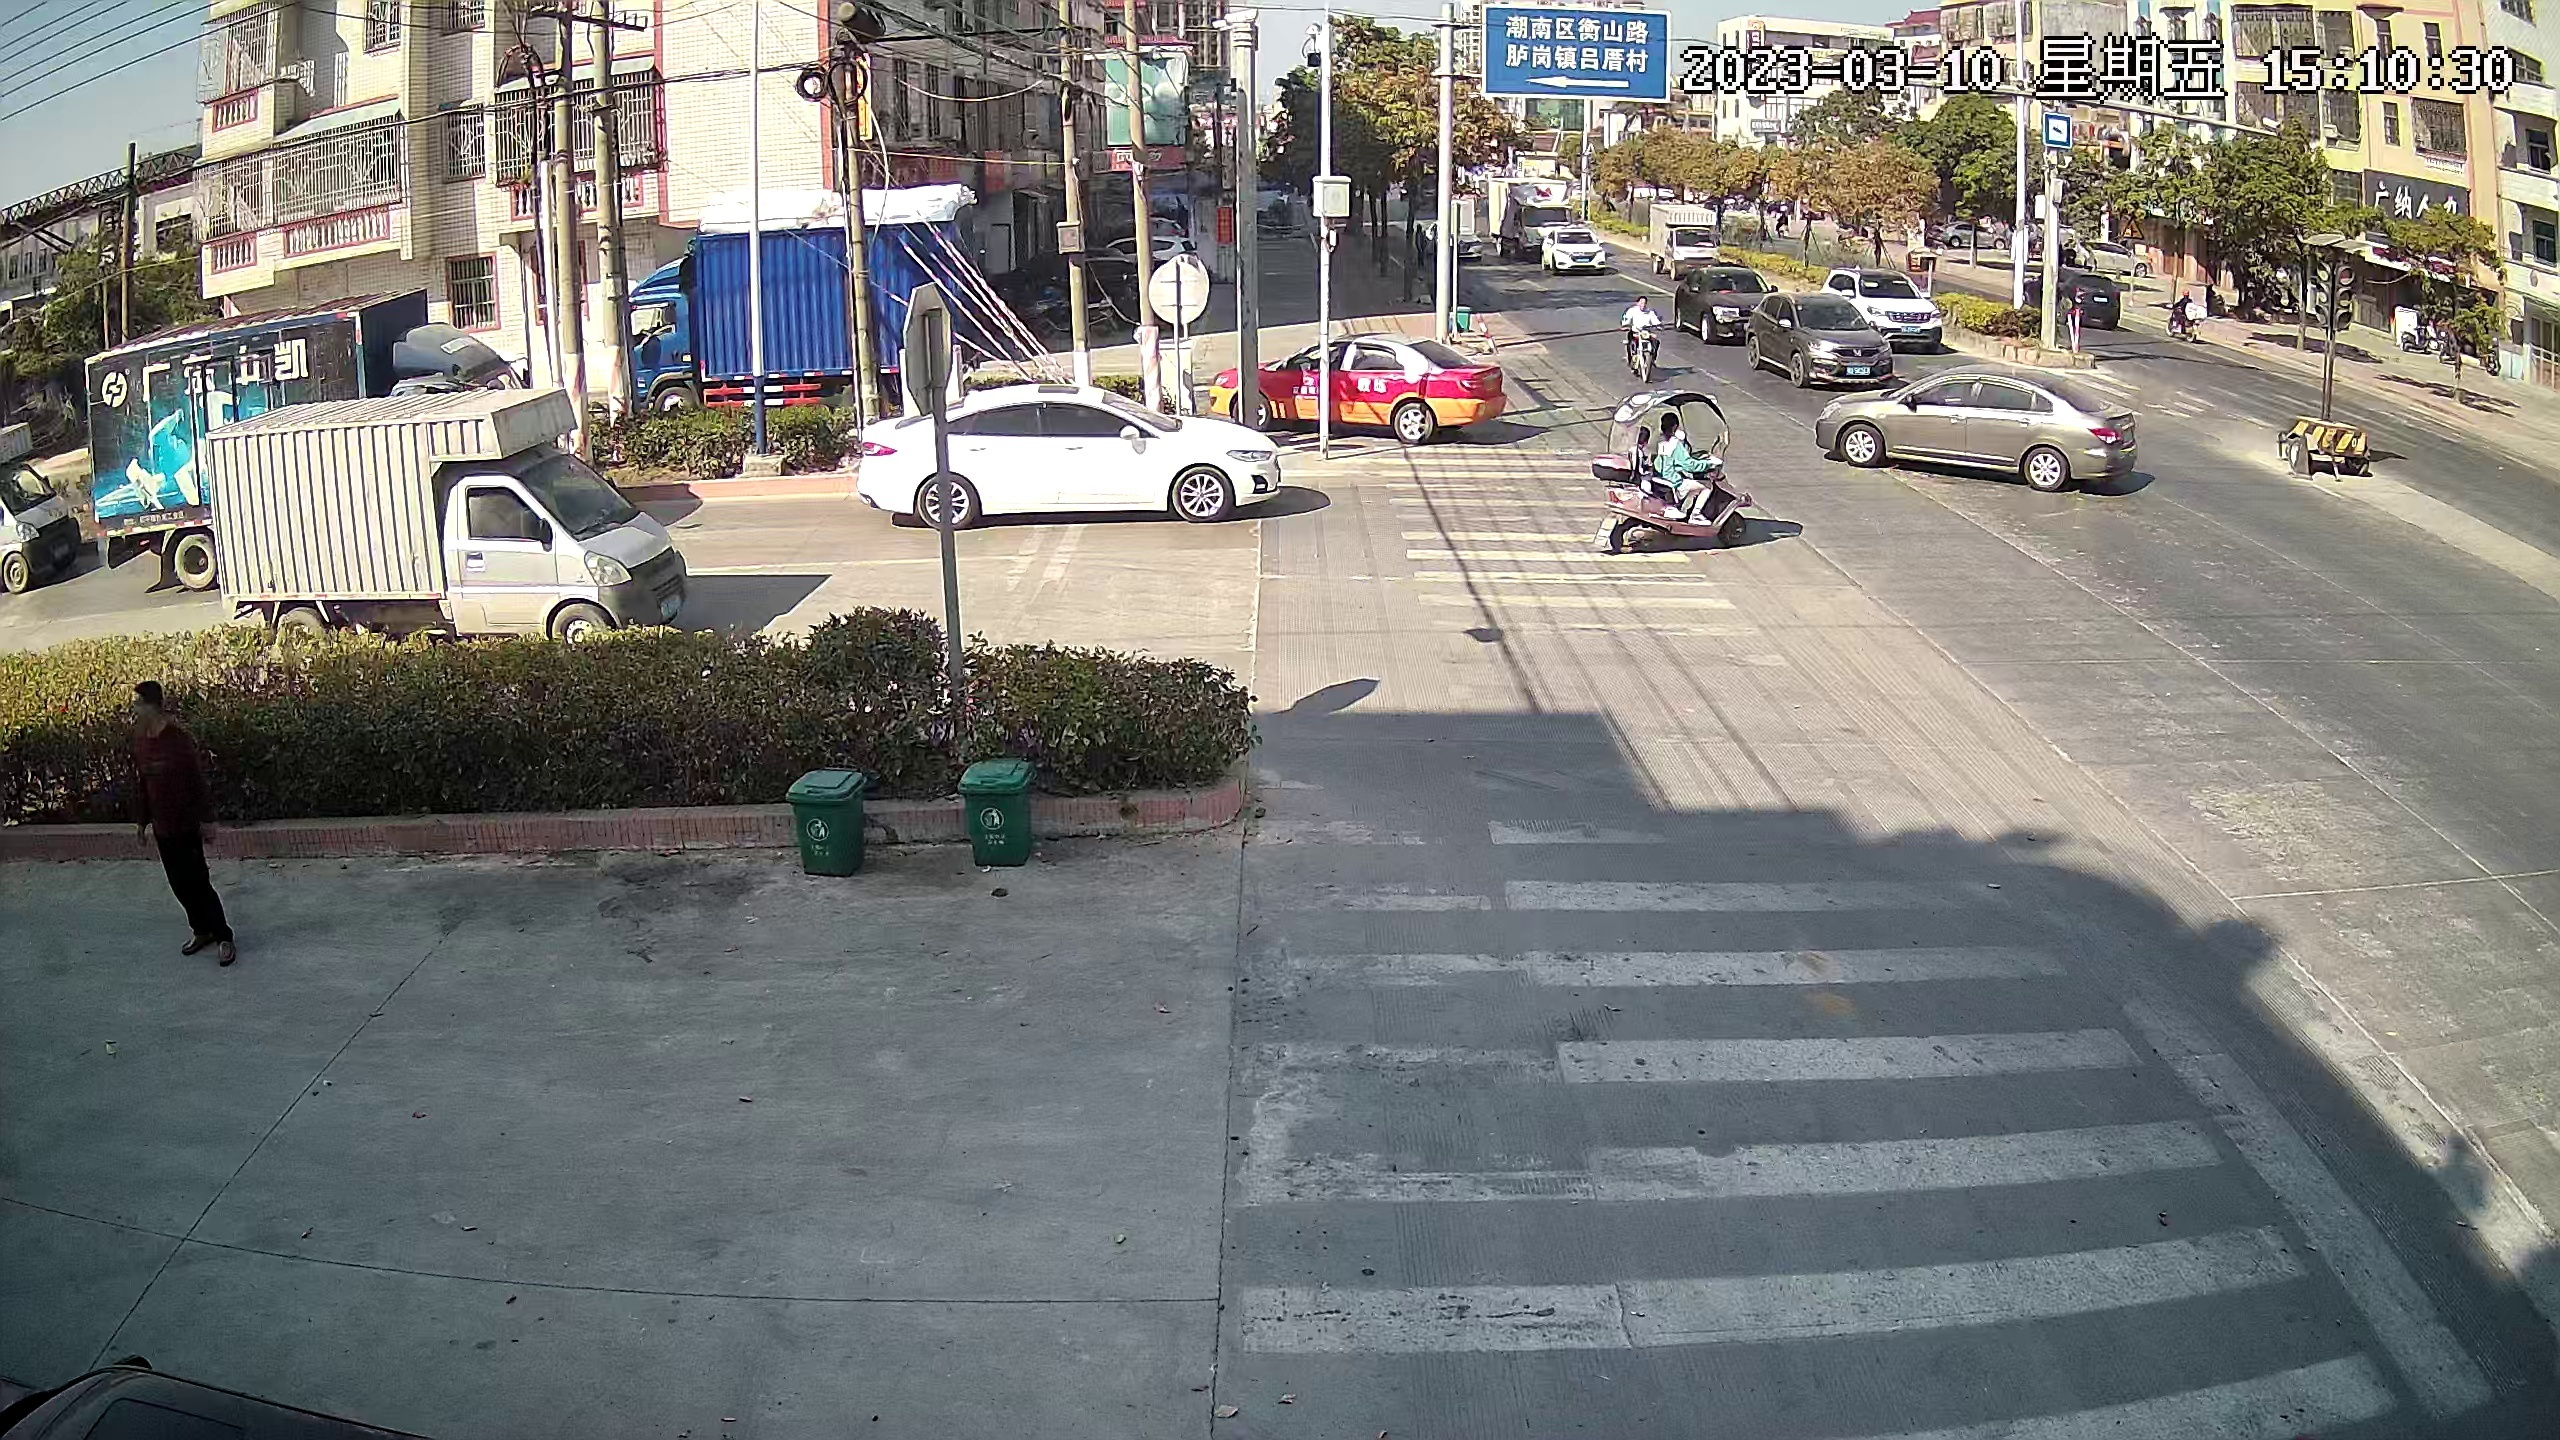motorcycle: (1595, 385, 1758, 564), (1614, 292, 1670, 388), (1040, 294, 1115, 335), (2172, 287, 2205, 354)
person: (105, 672, 238, 977)
sedan: (862, 380, 1274, 535), (1822, 357, 2137, 508), (1212, 330, 1503, 439), (1749, 295, 1887, 398), (2028, 264, 2125, 329), (1682, 267, 1760, 334), (1045, 244, 1144, 290), (2072, 235, 2152, 280), (1543, 224, 1607, 274), (1939, 225, 1995, 257)
suv: (1834, 260, 1930, 330)
truck: (210, 400, 677, 647), (619, 203, 975, 409), (89, 299, 525, 425), (1, 413, 87, 585), (1647, 198, 1723, 264), (1493, 173, 1564, 237)
